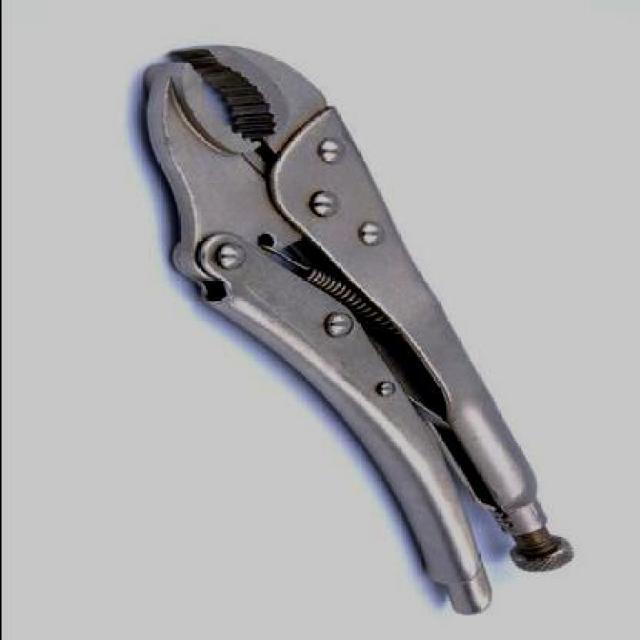pliers: (140, 43, 574, 620)
